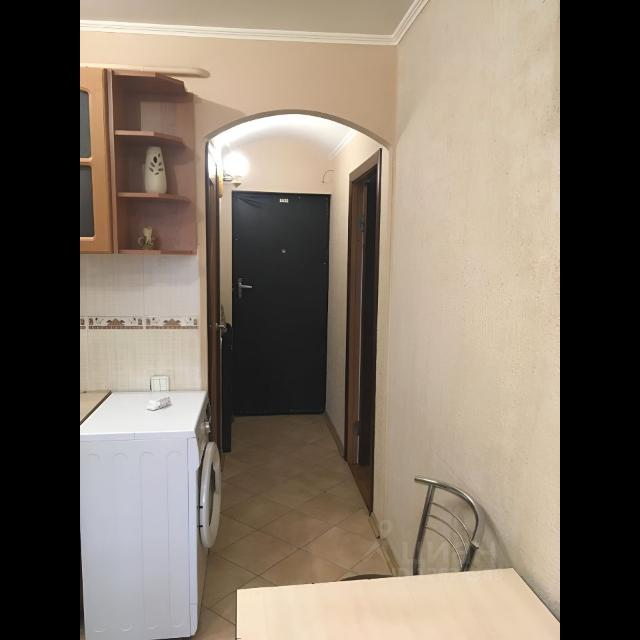Washing-Machine: (88, 397, 224, 631)
